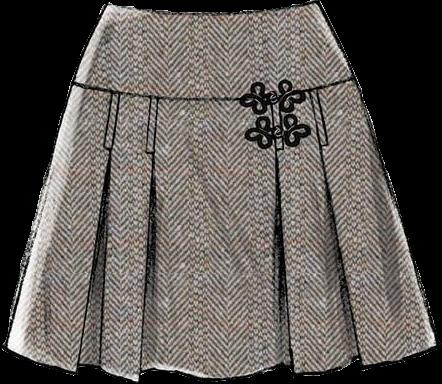Hemline: (2, 341, 439, 382)
Waistline: (72, 76, 354, 104), (107, 0, 316, 18)
